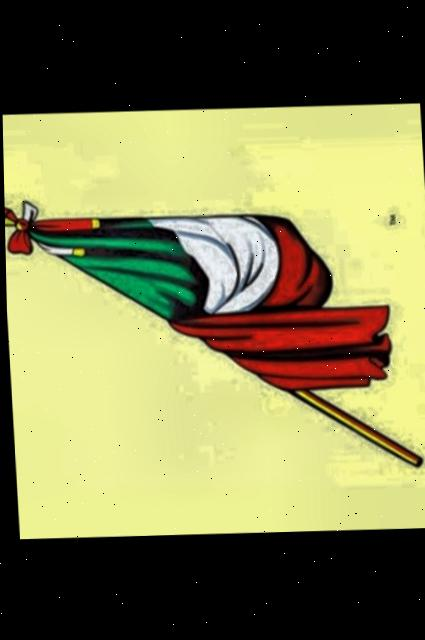La Bandera: (2, 99, 425, 539)
